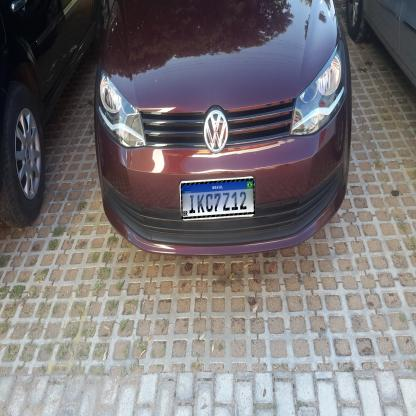PlacaM: (181, 178, 255, 219)
